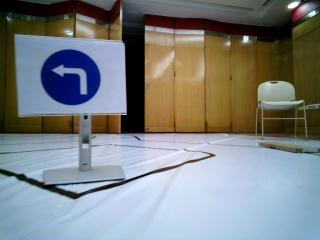left: (17, 35, 126, 113)
